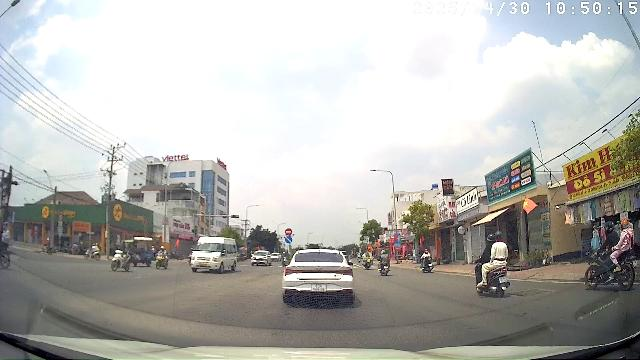102-cam-di-nguoc-chieu: (284, 229, 292, 236)
302a-huong-phai-di-vong-chuong-ngai-vat-1: (285, 236, 293, 242)
